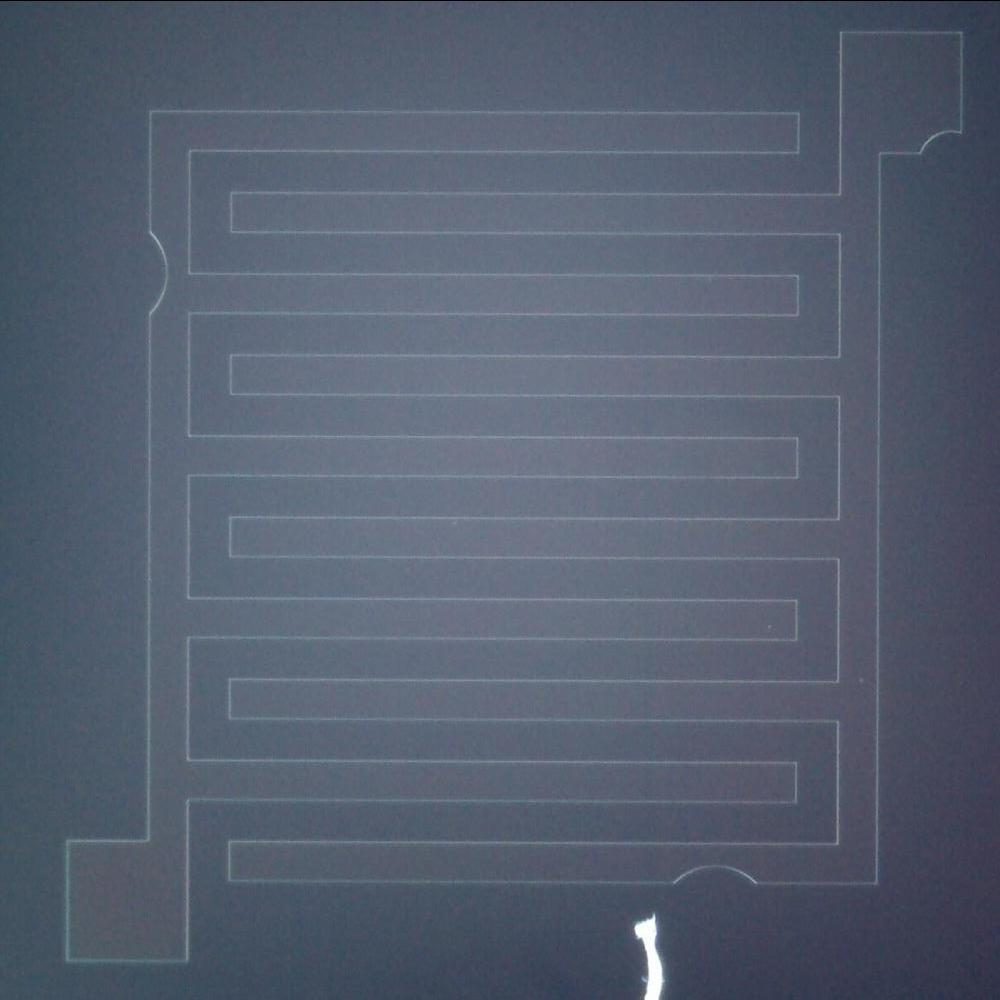curve circuit: (649, 855, 778, 896), (132, 221, 178, 328), (908, 104, 977, 170)
line: (630, 909, 665, 999)
